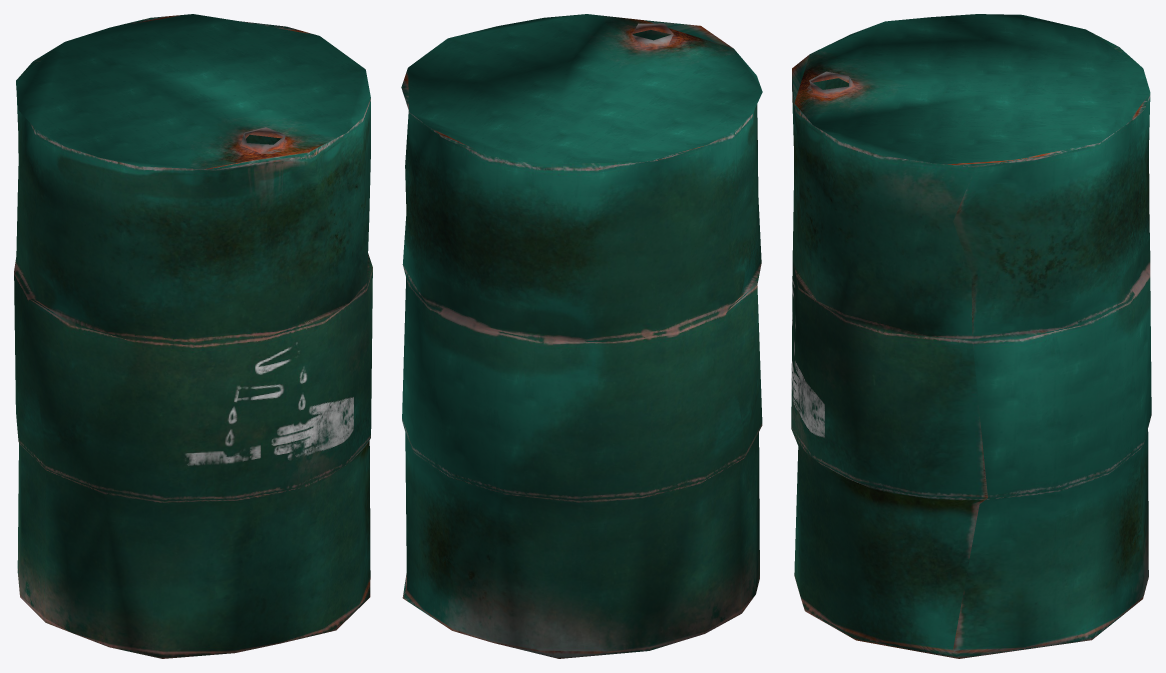
The model's file is MiskasteZala.fbx.
The picture shows the model from 3 angles, left to right: view 1: azimuth 30°, elevation 25°; view 2: azimuth 150°, elevation 25°; view 3: azimuth 270°, elevation 25°; orthographic projection.
Parts seen in each view (by area): view 1: Avid Waste Barrel; view 2: Avid Waste Barrel; view 3: Avid Waste Barrel.
Part boxes in pixels (x1,y1,x2,y2): Avid Waste Barrel: (14, 14, 372, 658); Avid Waste Barrel: (401, 14, 762, 658); Avid Waste Barrel: (791, 14, 1151, 658).
Bounding box in the file's own units: 0.5541 × 0.8443 × 0.5501.
Materials: 1 (1 with a texture image).
